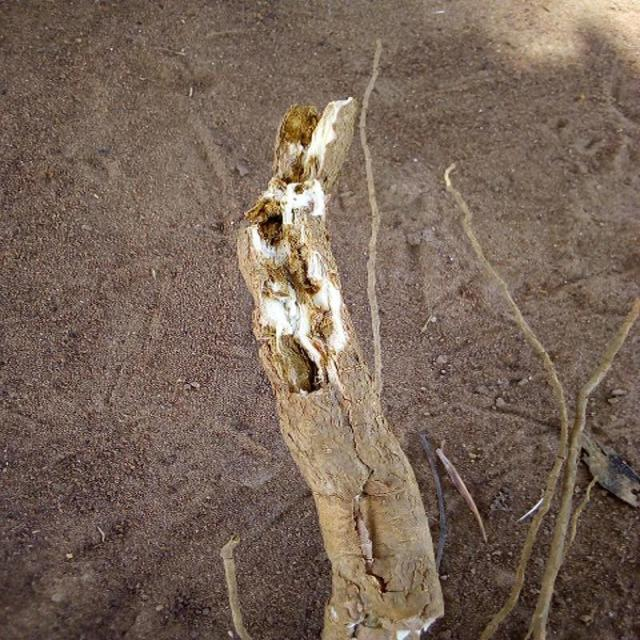cassava leaf: (234, 94, 446, 638)
